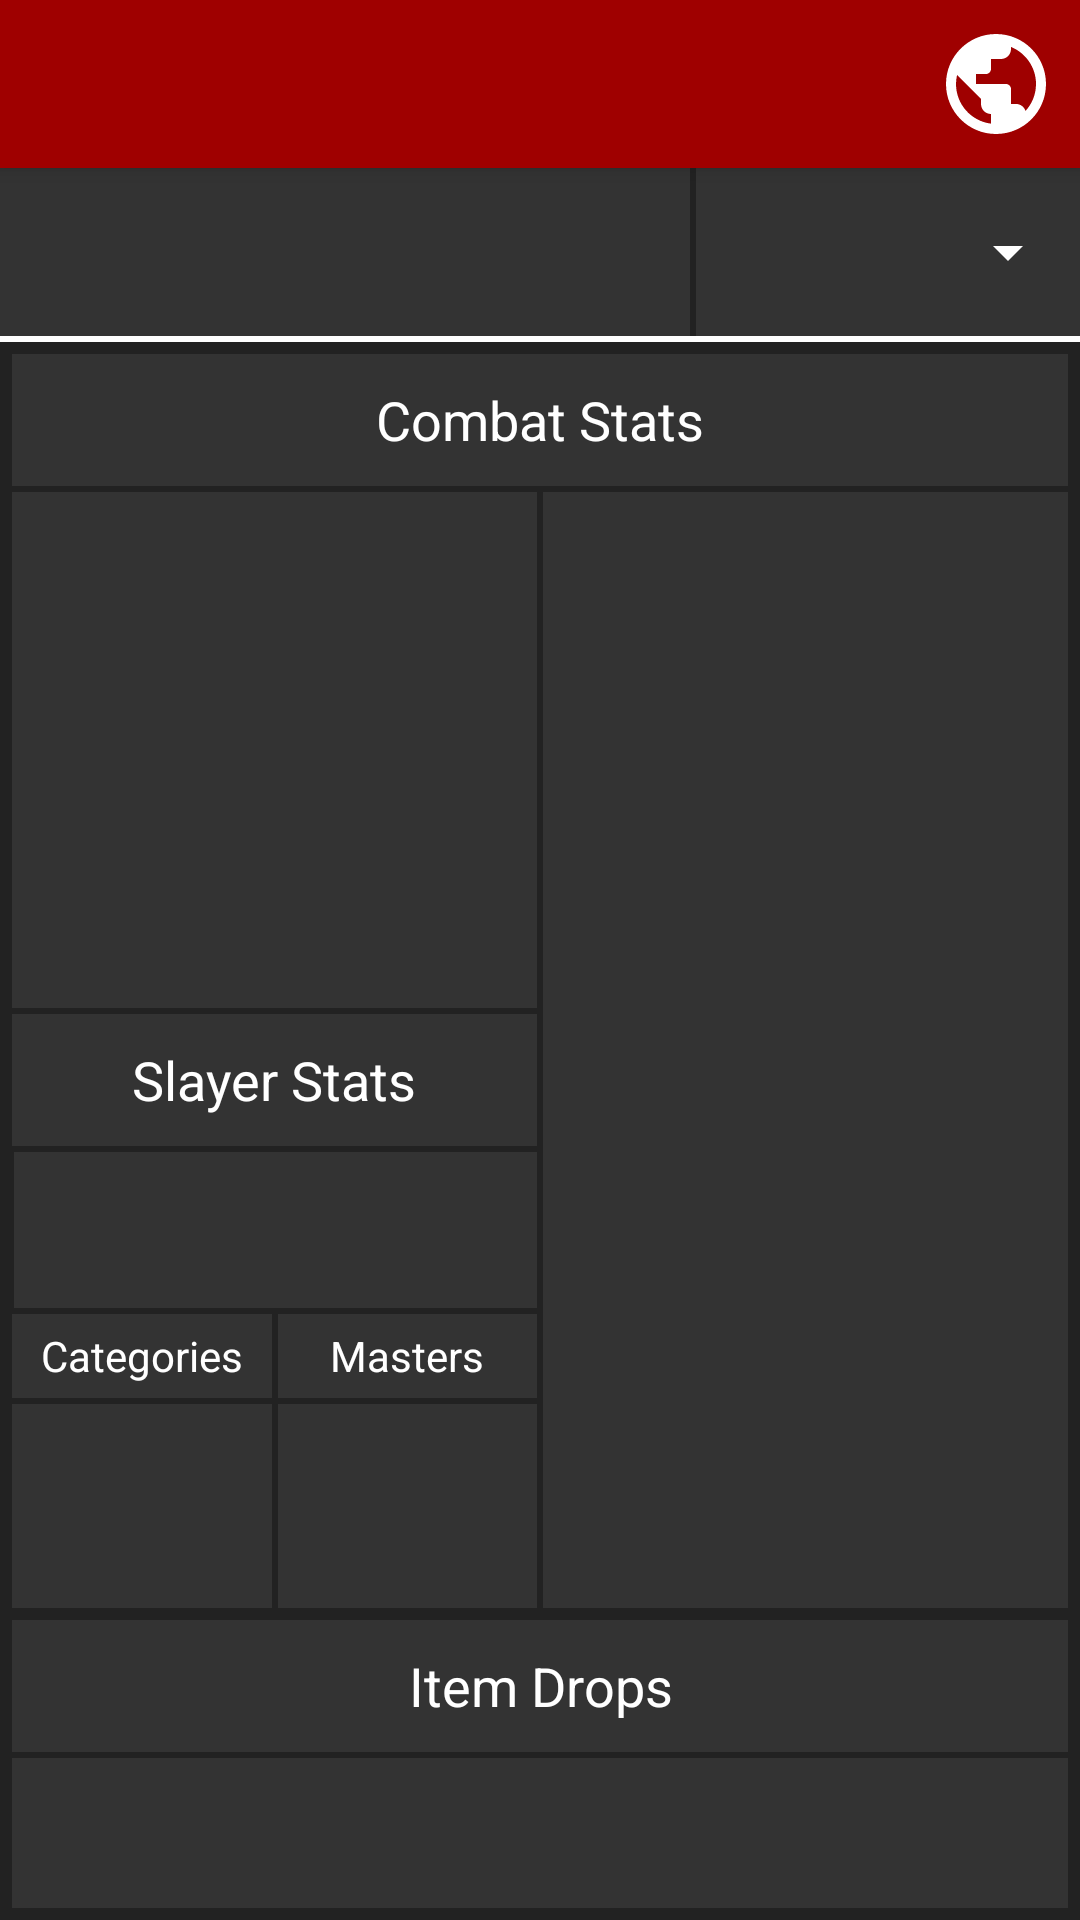

Point at icon controls on the screen. Image size 1080px×1920px, points as [x,y].
wiki: [996,84]
